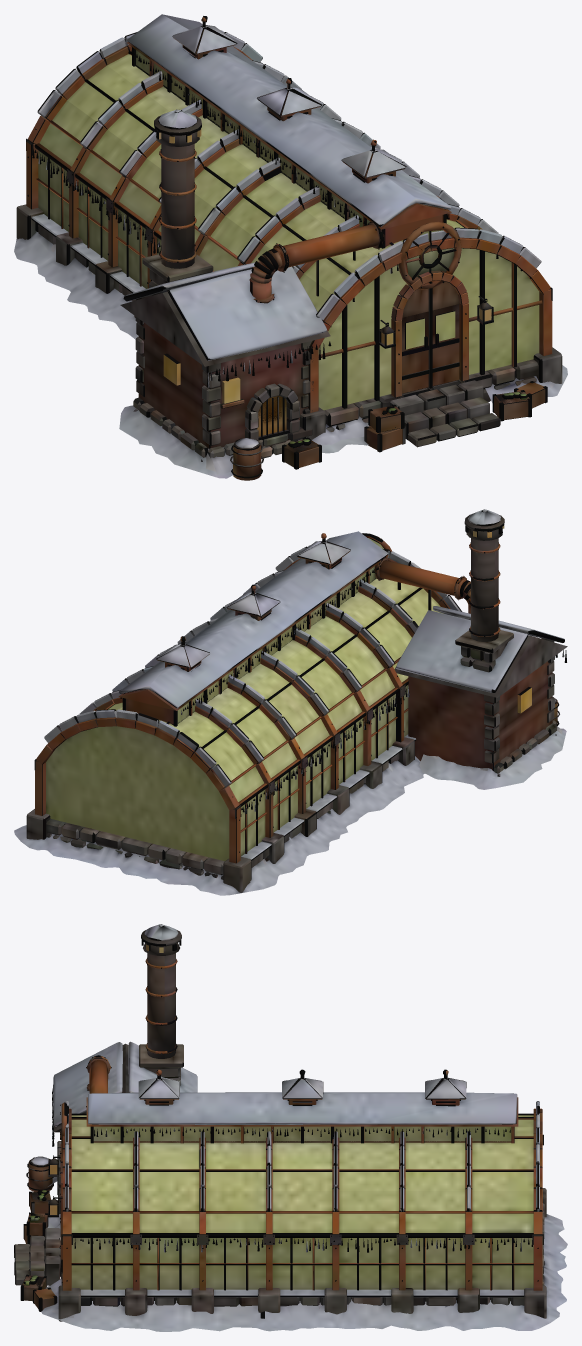
Rendered from glasshouse.glb.
3 renders of one model, top to bottom at view 1: azimuth 30°, elevation 25°; view 2: azimuth 150°, elevation 25°; view 3: azimuth 270°, elevation 25°, orthographic. The views are drawn at different scales.
Parts seen in each view (by area): view 1: model; view 2: model; view 3: model.
Part boxes in pixels (x1,y1,x2,y2): model: (14, 14, 567, 480); model: (14, 509, 567, 895); model: (14, 924, 567, 1331).
Bounding box in the file's own units: 8.84 × 6.5 × 12.37.
Materials: 2 (2 with a texture image).
